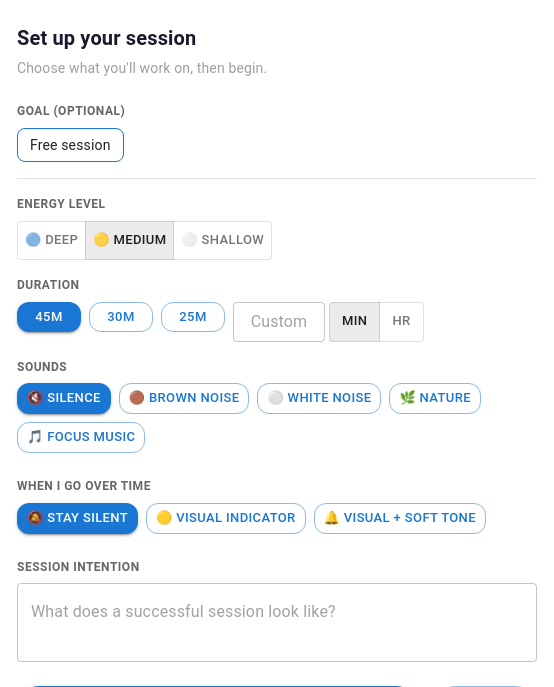
Test: PreSessionSetup — custom duration with unit › shows error and disables Begin when custom value is 0
Type "0" into the field with placeholder "Custom" at (279, 322), box [233,302,325,342]
(page scrolled)
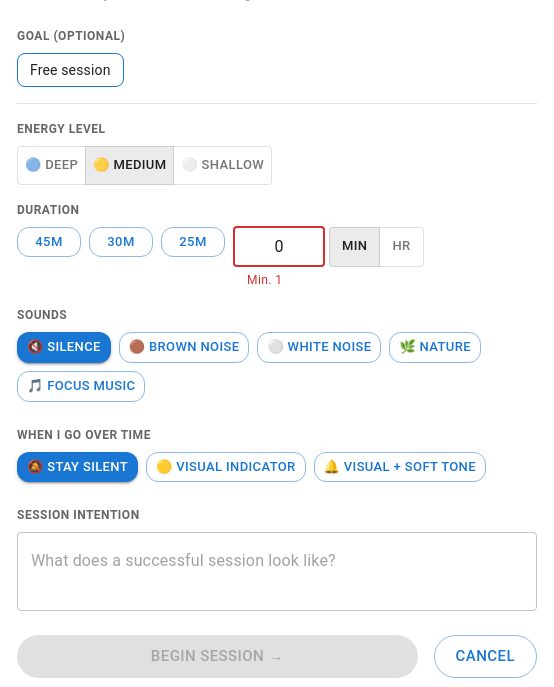
Now the text "Min. 1" is shown, box [247,272,282,286]
Now the button "Begin session →" is disabled, box [17,635,418,678]
